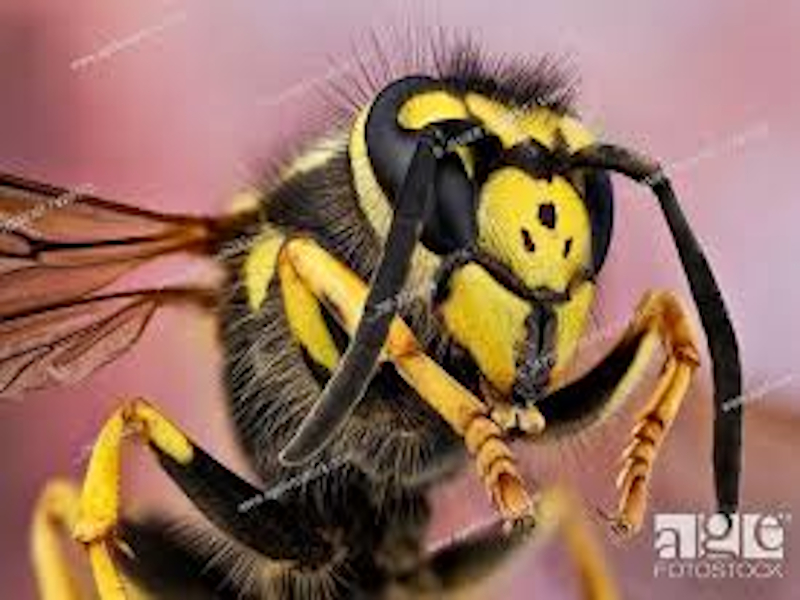chax: (21, 47, 751, 556)
